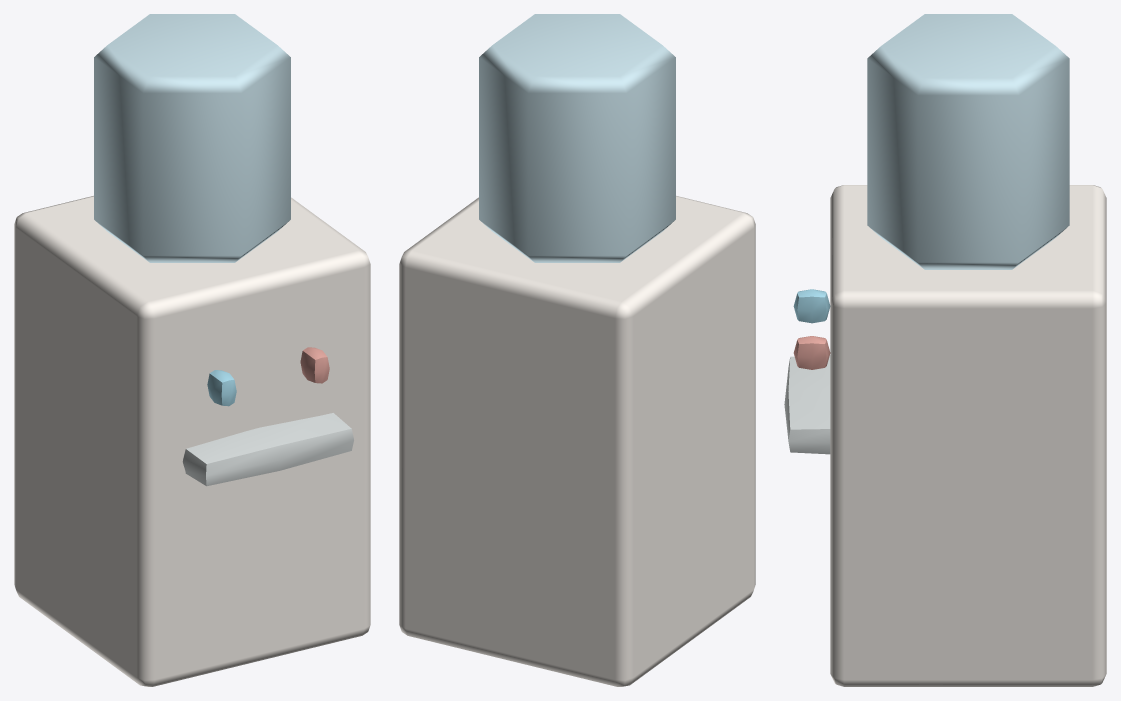
The model's file is water-dispenser.glb.
The picture shows the model from 3 angles, left to right: view 1: azimuth 30°, elevation 25°; view 2: azimuth 150°, elevation 25°; view 3: azimuth 270°, elevation 25°; orthographic projection. The views are drawn at different scales.
Visible parts, largest first — view 1: part (×5); view 2: part (×2); view 3: part (×5).
Part boxes in pixels (x1,y1,x2,y2): part (×5): (14, 14, 370, 686); part (×2): (399, 14, 755, 686); part (×5): (784, 14, 1106, 686).
Bounding box in the file's own units: 0.6 × 1.41 × 0.7.
1 material, 1 textured.
